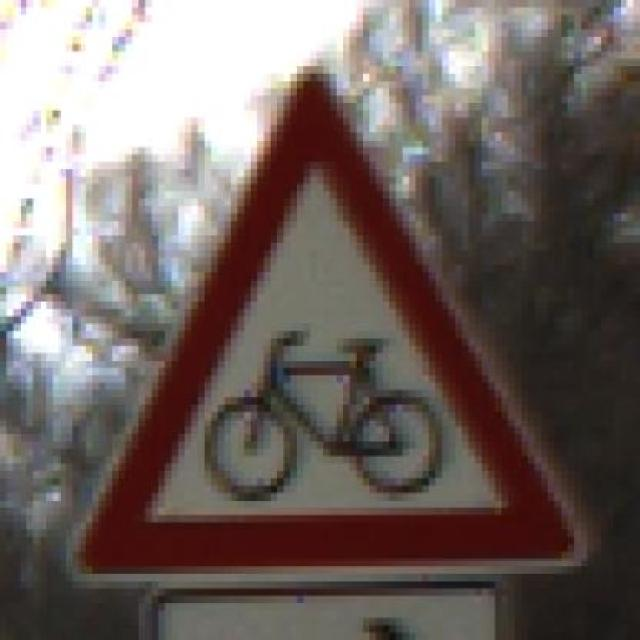CYCLE ROUTE AHEAD WARNING: (66, 51, 600, 588)
